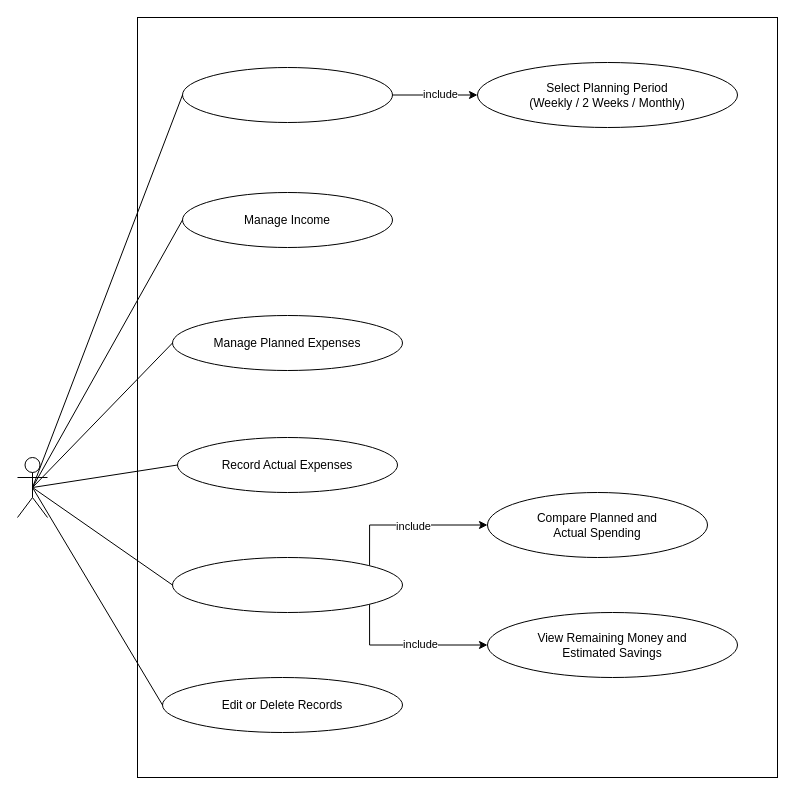
The diagram is 795 pixels wide and 795 high, and some of its shapes have lost their labels. Here are the shapes that lost their labels. From the top down, the centre of each, then its label:
At point 287,94: "Create Budget Plan".
At point 32,487: "User".
At point 287,584: "View Financial Summary".
